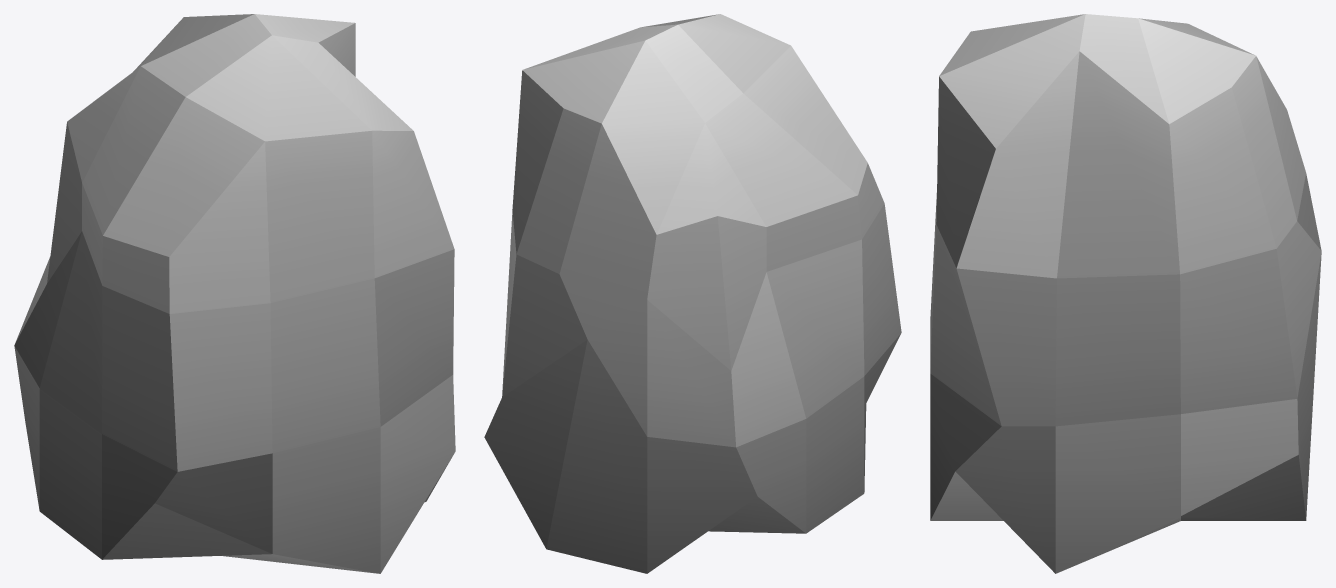
The model's file is rock_03.fbx.
3 views of the same model, side by side, from view 1: azimuth 30°, elevation 25°; view 2: azimuth 150°, elevation 25°; view 3: azimuth 270°, elevation 25° (orthographic). The views are drawn at different scales.
Visible parts, largest first — view 1: rock_03; view 2: rock_03; view 3: rock_03.
Part boxes in pixels (<box>): rock_03: <box>14,14,455,573</box>; rock_03: <box>484,14,901,573</box>; rock_03: <box>930,14,1321,573</box>.
Bounding box in the file's own units: 107 × 155 × 112.
